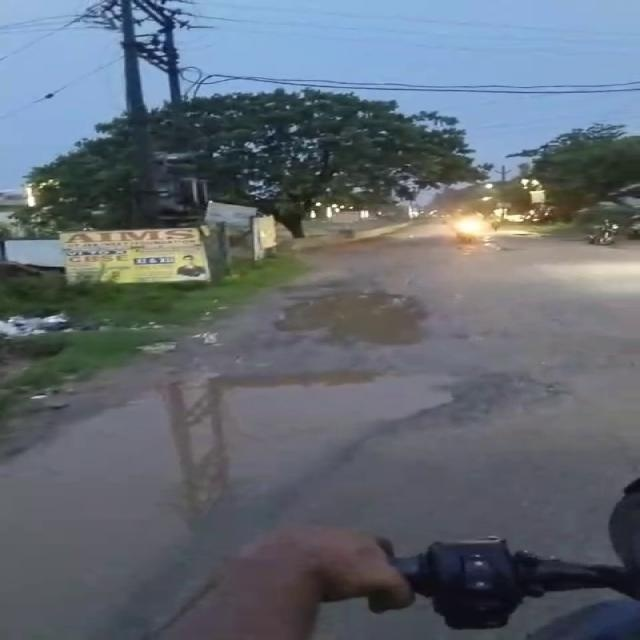pothole: (8, 423, 300, 621), (130, 372, 510, 430), (280, 290, 418, 348)
